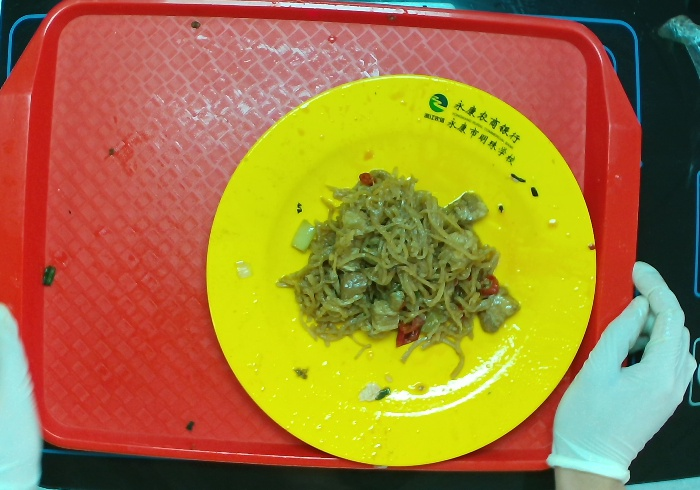YKMZ-Huang_Se_Mian_Pan: (204, 74, 596, 468)
